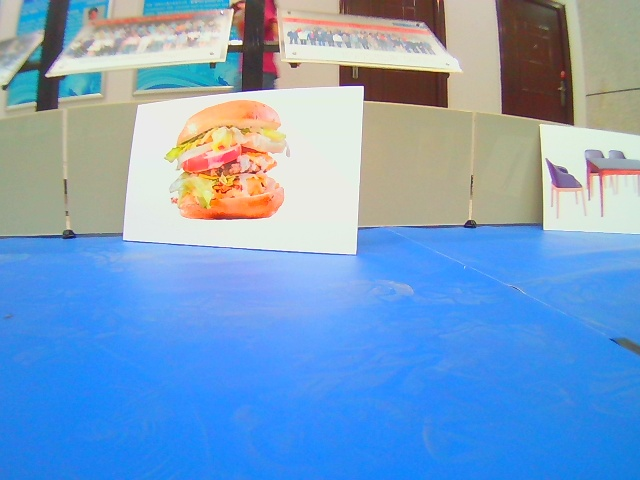food: (125, 85, 361, 256)
